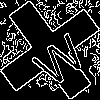W: (25, 25, 90, 90)
